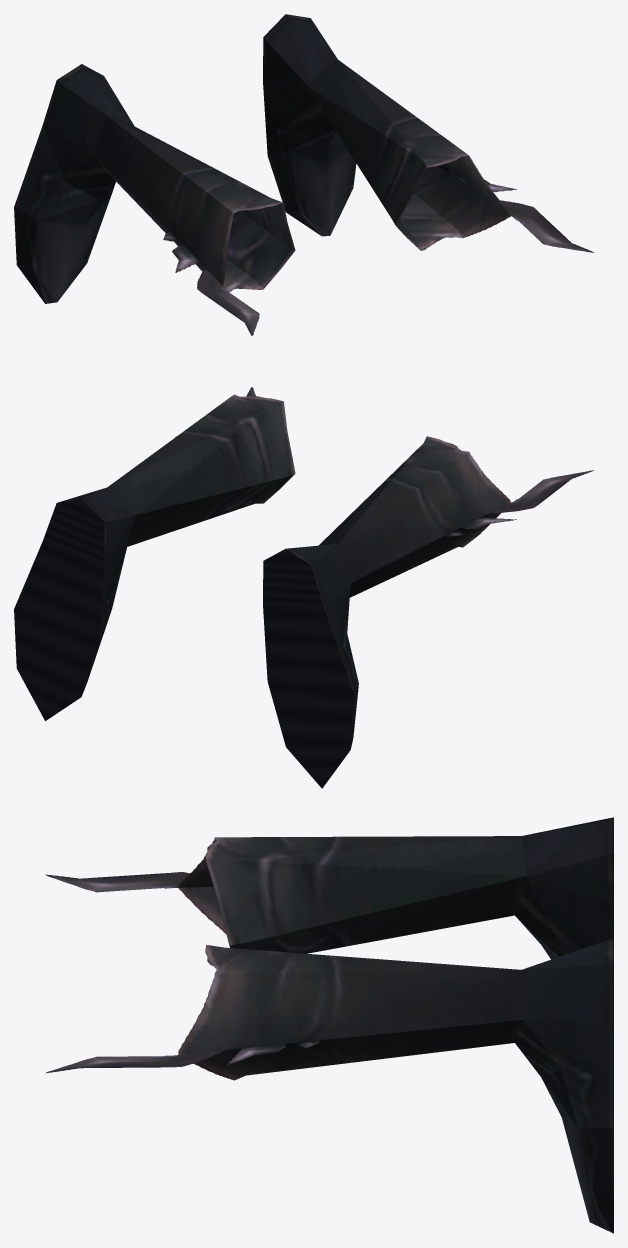
File: robber_shoe_male_47080.obj
3 renders of one model, top to bottom at view 1: azimuth 30°, elevation 25°; view 2: azimuth 150°, elevation 25°; view 3: azimuth 270°, elevation 25°, orthographic. The views are drawn at different scales.
Visible parts, largest first — view 1: robber_shoe_male_47080; view 2: robber_shoe_male_47080; view 3: robber_shoe_male_47080.
Part boxes in pixels (x1,y1,x2,y2): robber_shoe_male_47080: (14,14,594,335); robber_shoe_male_47080: (14,387,594,788); robber_shoe_male_47080: (45,817,613,1233).
Size of the model in its own units: 29.92 by 17.54 by 34.75.
1 material, 1 textured.
